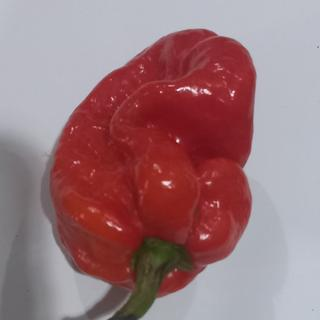Grade-A: (43, 23, 265, 299)
